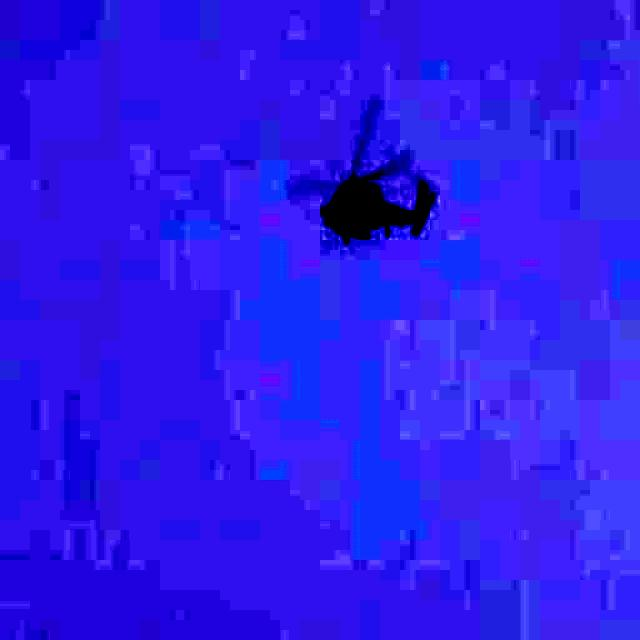drone: (280, 111, 456, 288)
